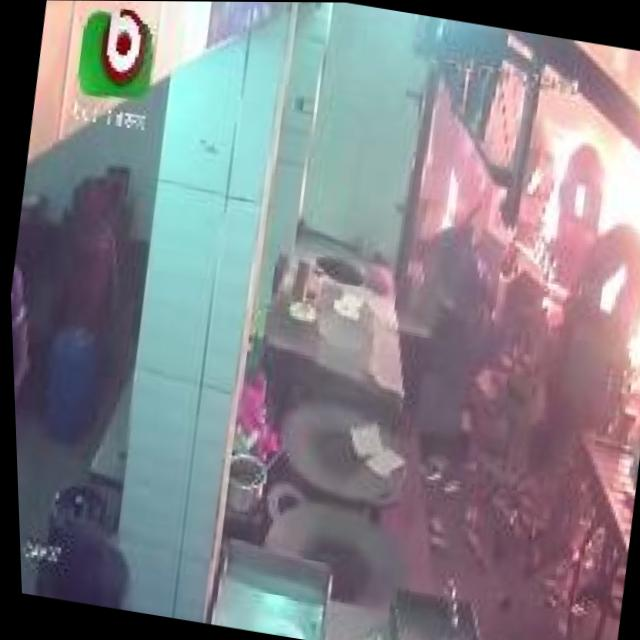fire: (570, 125, 640, 362), (520, 114, 616, 245), (616, 52, 640, 151)
